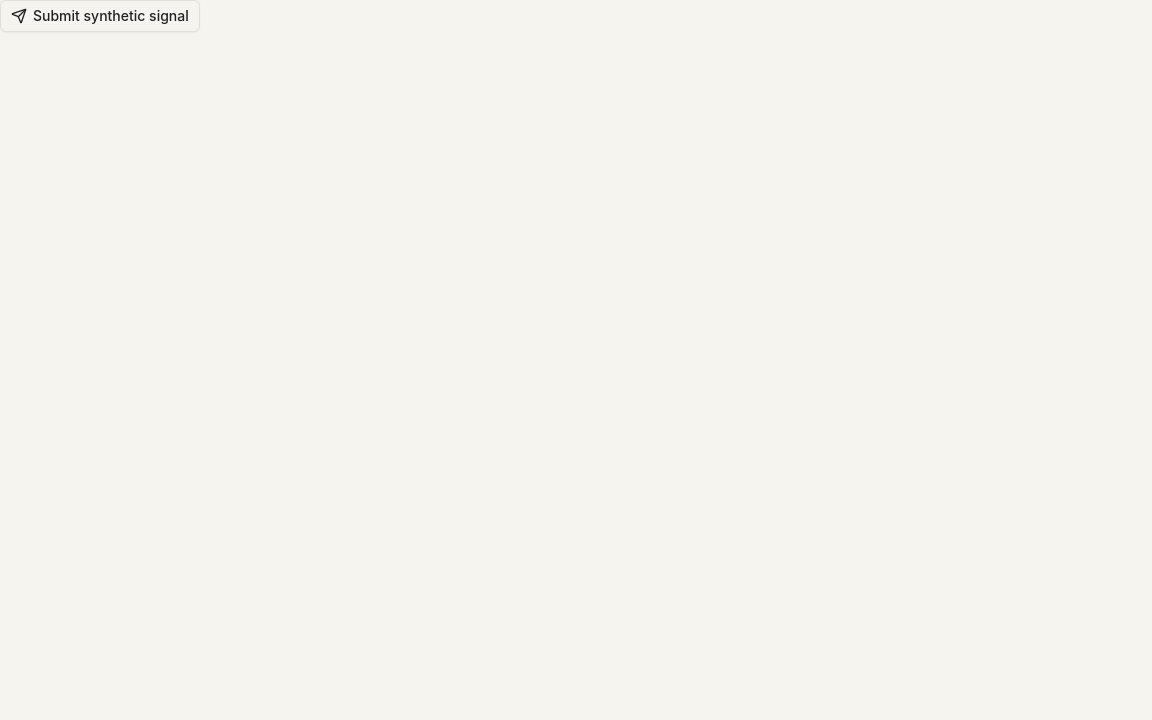
Test case: SubmitSignalSheet › sends the payload text to the server action and shows a duplicate result
Click the button "Submit synthetic signal" at (100,16), box top-left (0, 0), bottom-right (200, 32)
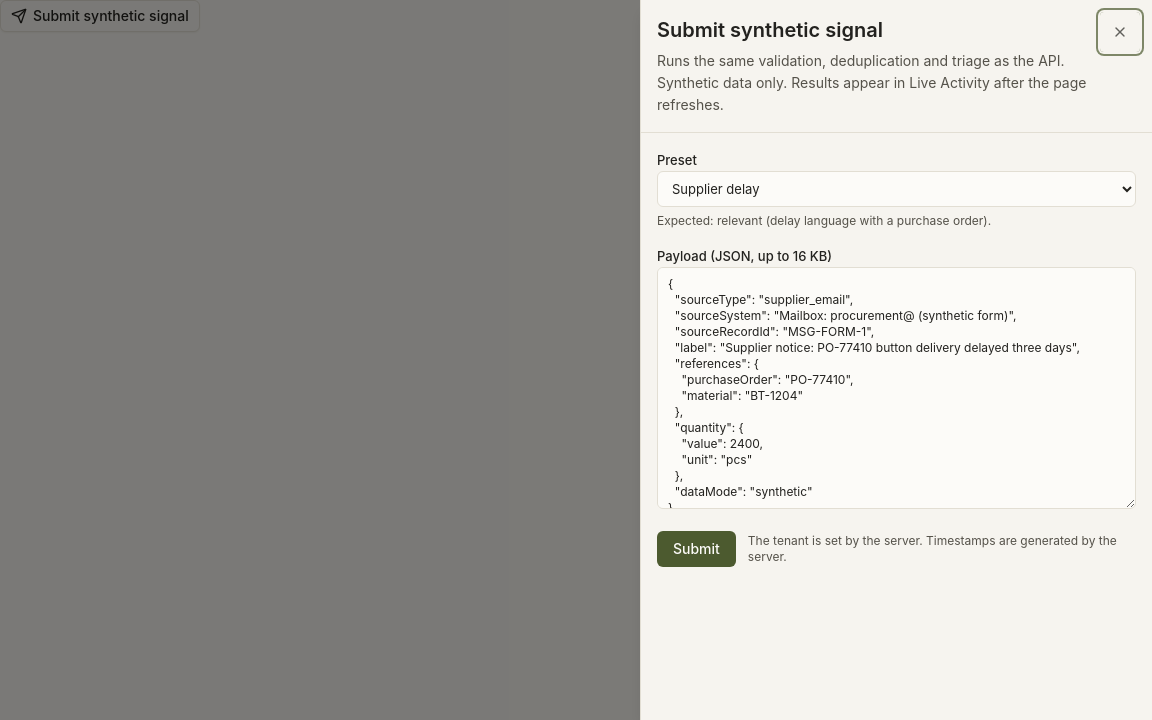
Click the button "Submit" at (696,549), box top-left (657, 531), bottom-right (736, 567)
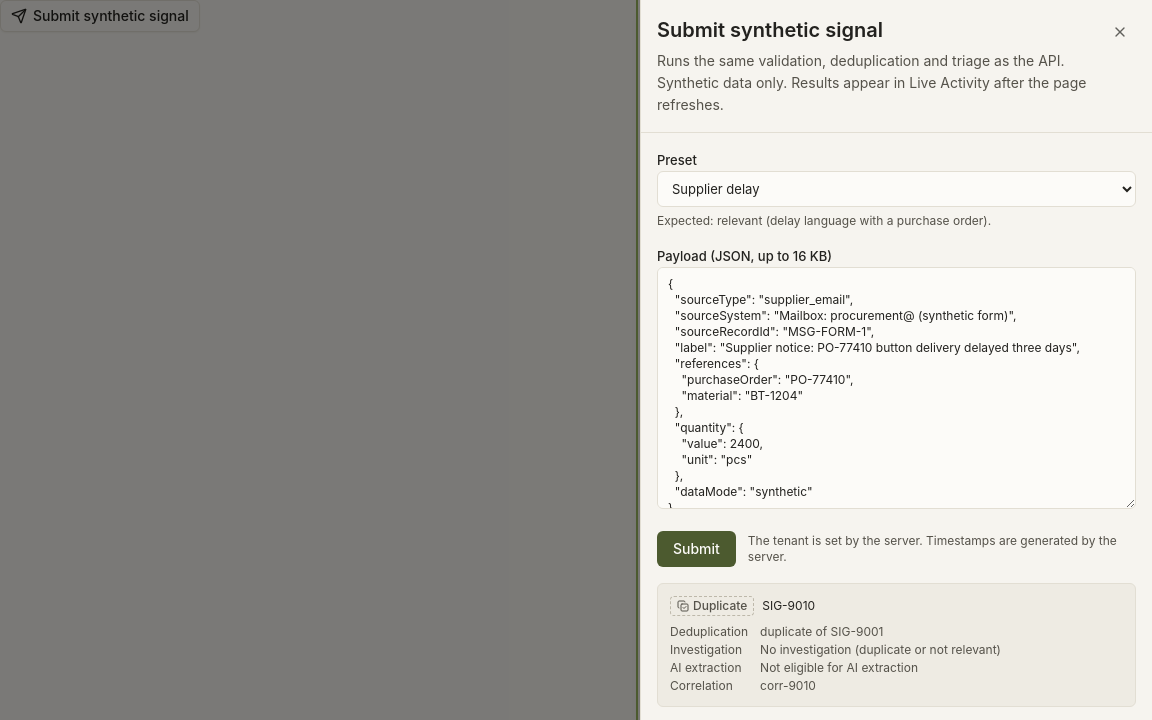
Check: the message shows "duplicate of SIG-9001", box top-left (657, 583), bottom-right (1136, 707)
Check: the message shows "Duplicate", box top-left (693, 598), bottom-right (747, 613)
